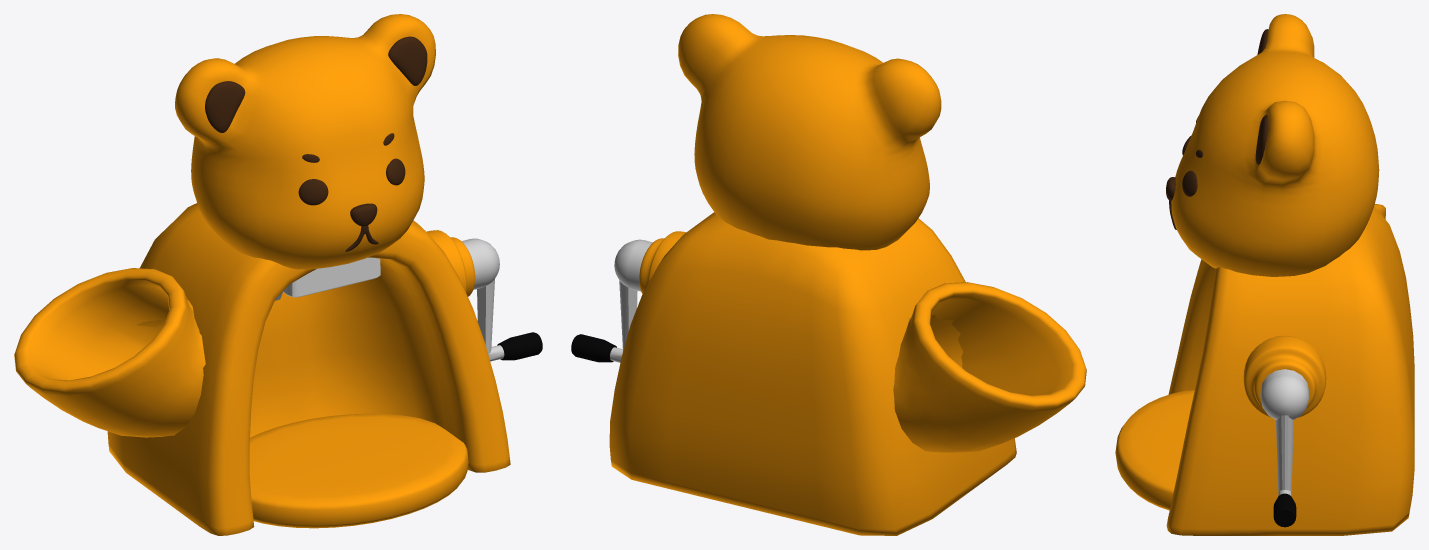
Rendered from Color_changer_3.fbx.
3 views of the same model, side by side, from view 1: azimuth 30°, elevation 25°; view 2: azimuth 150°, elevation 25°; view 3: azimuth 270°, elevation 25° (orthographic). The views are drawn at different scales.
Visible parts, largest first — view 1: body, lever, eyes; view 2: body, lever; view 3: body, lever, eyes.
Part boxes in pixels (left/top/right/bottom): body: left=14, top=14, right=510, bottom=535; lever: left=461, top=238, right=542, bottom=361; eyes: left=298, top=158, right=405, bottom=205; body: left=609, top=14, right=1086, bottom=535; lever: left=571, top=239, right=652, bottom=362; body: left=1115, top=14, right=1414, bottom=535; lever: left=1260, top=369, right=1309, bottom=527; eyes: left=1182, top=135, right=1197, bottom=196.
Size of the model in its own units: 19.92 by 15.89 by 10.61.
